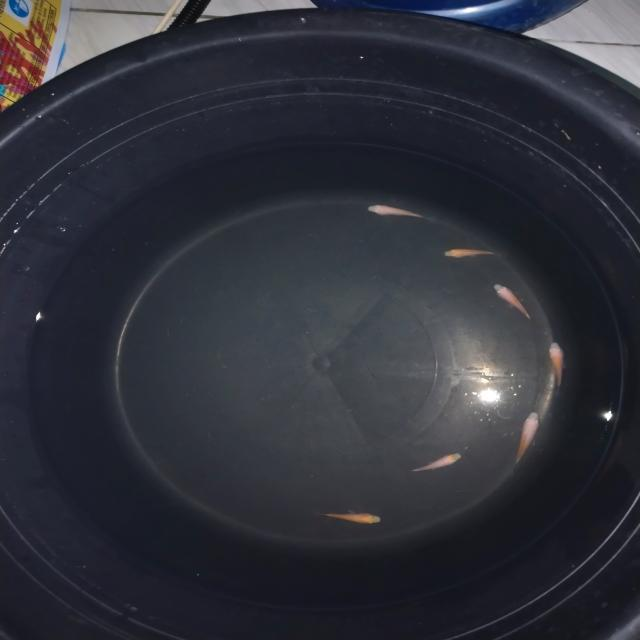nila: (484, 282, 540, 328), (508, 408, 544, 474), (400, 450, 464, 476), (316, 507, 390, 527), (360, 202, 432, 222), (547, 340, 566, 398), (436, 246, 502, 260)
